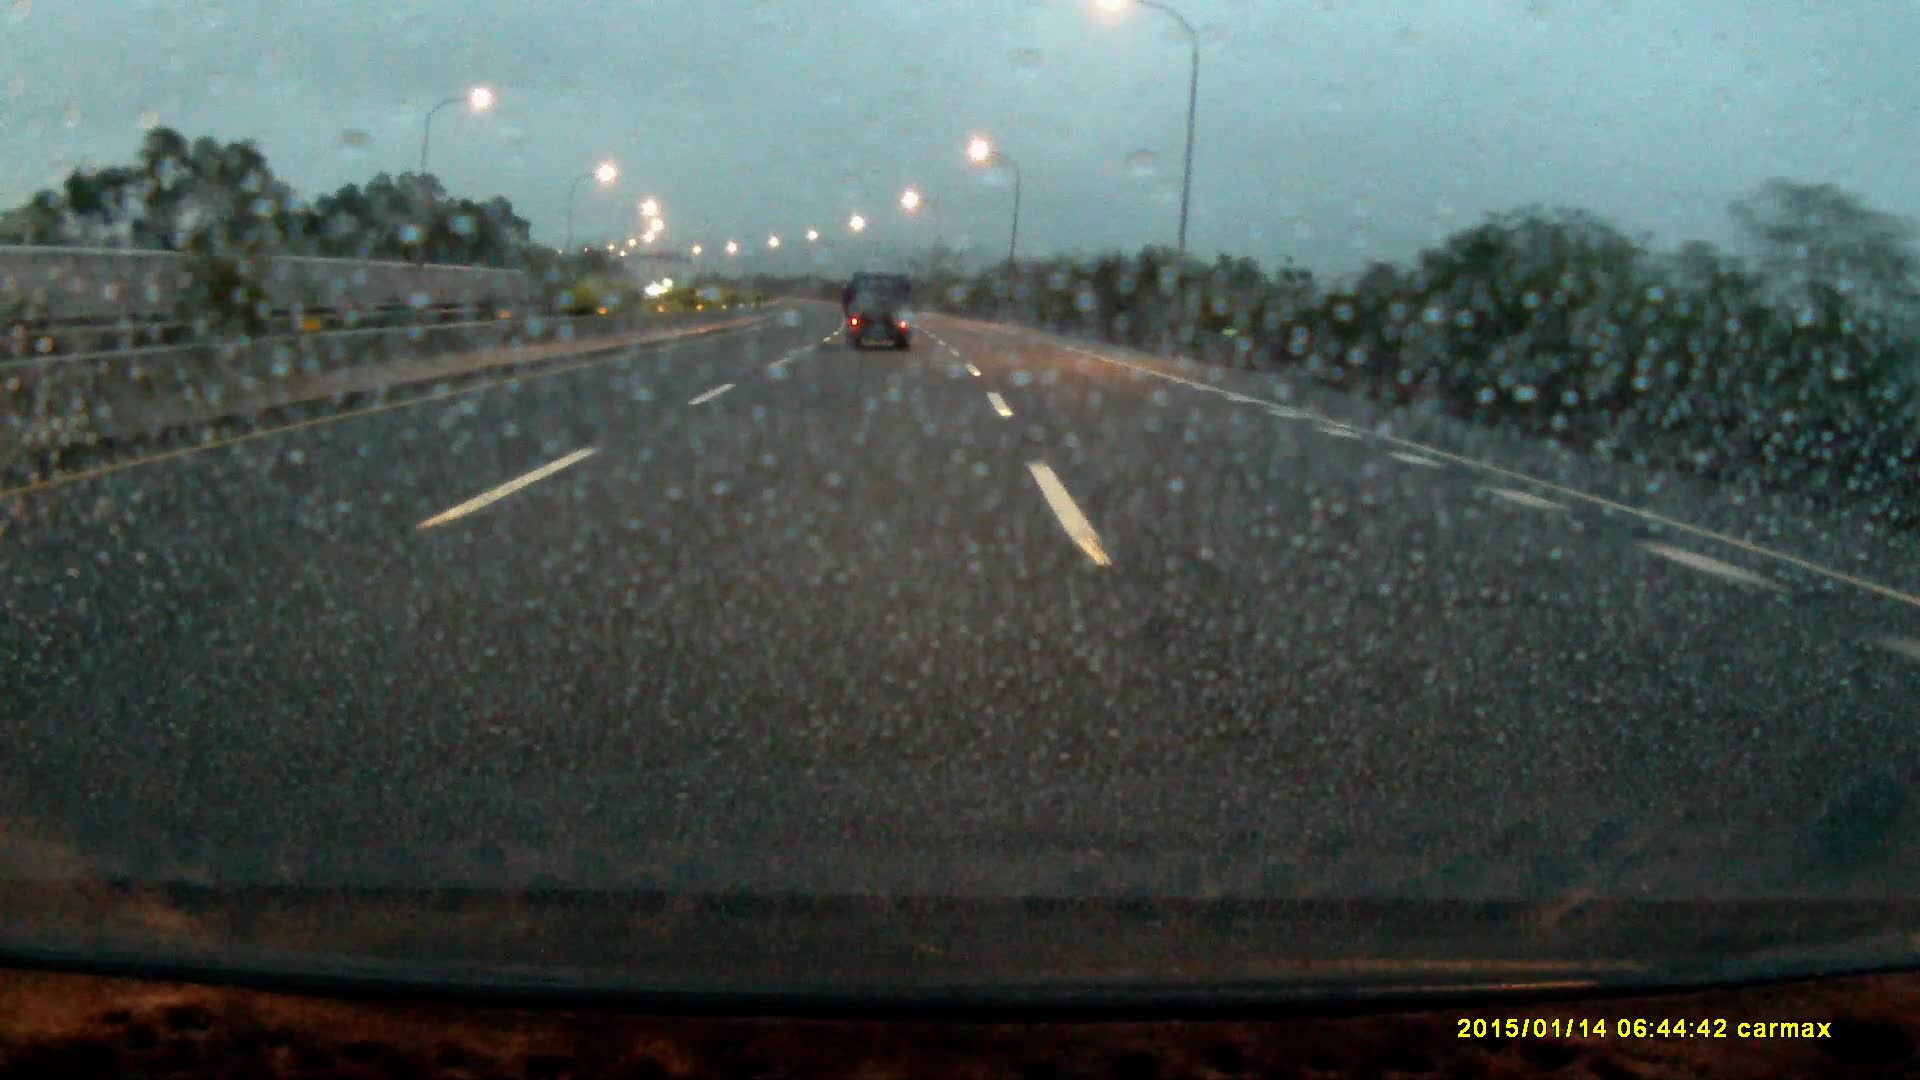vehicle: (844, 272, 913, 357)
